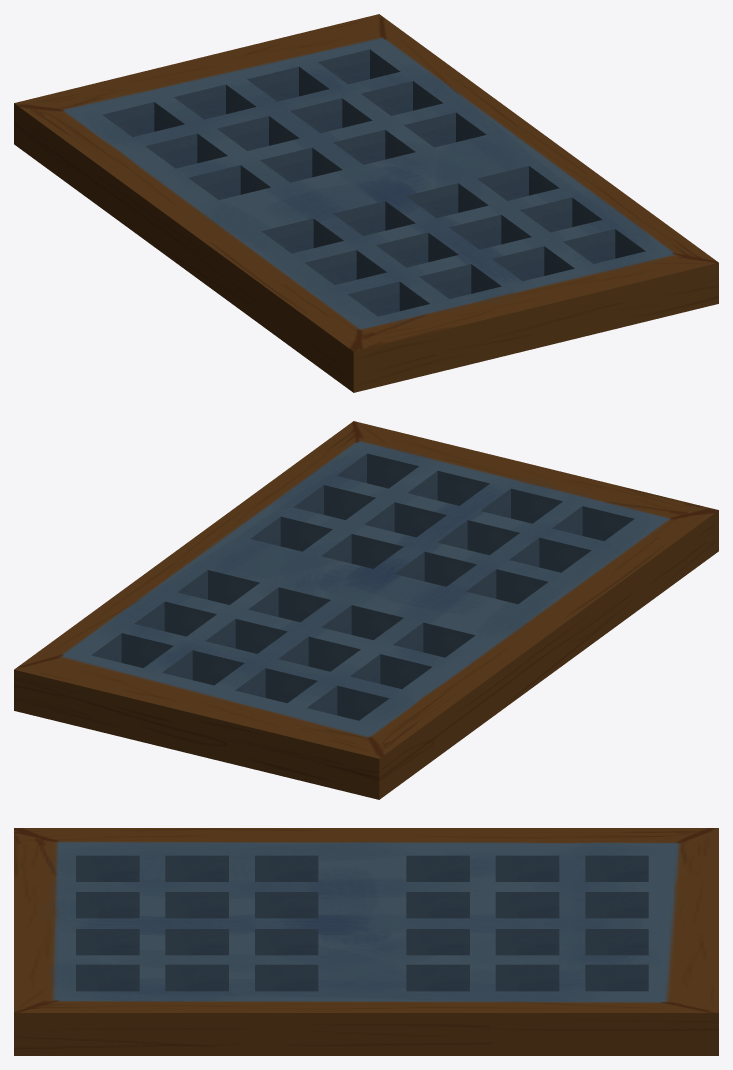
File: Regilla.fbx
3 renders of one model, top to bottom at view 1: azimuth 30°, elevation 25°; view 2: azimuth 150°, elevation 25°; view 3: azimuth 270°, elevation 25°, orthographic. The views are drawn at different scales.
Parts seen in each view (by area): view 1: Cube; view 2: Cube; view 3: Cube.
Boxes of the visible parts, bbox=[...] form: Cube: bbox=[14, 14, 718, 392]; Cube: bbox=[14, 421, 718, 799]; Cube: bbox=[14, 828, 718, 1055].
Bounding box in the file's own units: 241 × 25.94 × 388.
